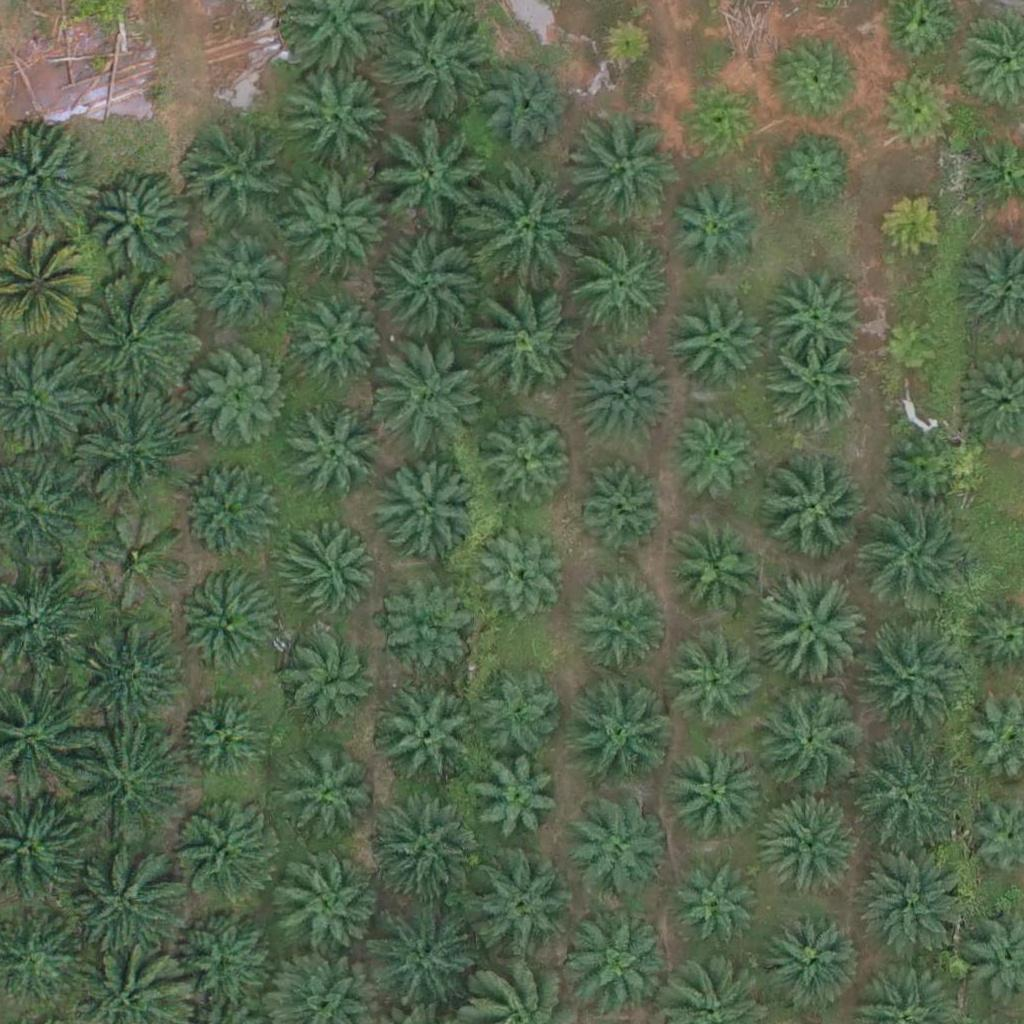Kelapa_Sawit: (860, 621, 973, 735), (757, 449, 870, 563), (750, 577, 863, 690), (372, 229, 485, 342), (366, 798, 479, 911), (366, 899, 479, 1012), (67, 843, 180, 956), (70, 614, 183, 727), (74, 394, 187, 507), (78, 282, 191, 395), (469, 176, 582, 289), (375, 125, 488, 238), (77, 170, 190, 283), (371, 346, 483, 460), (70, 728, 182, 842), (863, 500, 975, 613), (851, 740, 963, 853), (859, 852, 971, 965), (753, 684, 865, 797), (465, 285, 577, 398), (462, 850, 574, 963), (566, 112, 678, 225), (381, 8, 493, 121), (283, 158, 395, 271), (177, 121, 289, 234), (766, 265, 866, 366), (764, 910, 864, 1011), (660, 178, 760, 279), (667, 294, 767, 395), (667, 518, 767, 619), (669, 635, 769, 736), (665, 746, 765, 847), (573, 234, 673, 335), (570, 567, 670, 668), (569, 686, 669, 787), (566, 795, 666, 896), (478, 407, 578, 508), (378, 462, 478, 563), (382, 691, 482, 792), (283, 404, 383, 505), (275, 524, 375, 625), (280, 624, 380, 725), (276, 856, 376, 957), (181, 459, 281, 560), (178, 575, 278, 676), (177, 801, 277, 902), (288, 72, 388, 173), (763, 793, 863, 893), (569, 349, 669, 449), (571, 918, 671, 1018), (374, 574, 474, 674), (184, 354, 284, 454), (178, 903, 278, 1003), (90, 510, 190, 610), (670, 416, 758, 505), (883, 430, 971, 518), (775, 345, 863, 433), (575, 460, 663, 548), (180, 700, 268, 788), (774, 33, 862, 121), (774, 125, 862, 213), (872, 65, 960, 153), (487, 58, 575, 146), (677, 861, 764, 950), (476, 528, 563, 616), (476, 669, 563, 757), (473, 757, 560, 845), (295, 299, 382, 387), (284, 752, 371, 840), (197, 244, 284, 332), (675, 75, 762, 163), (877, 187, 952, 263), (592, 16, 655, 79), (882, 316, 944, 379)
